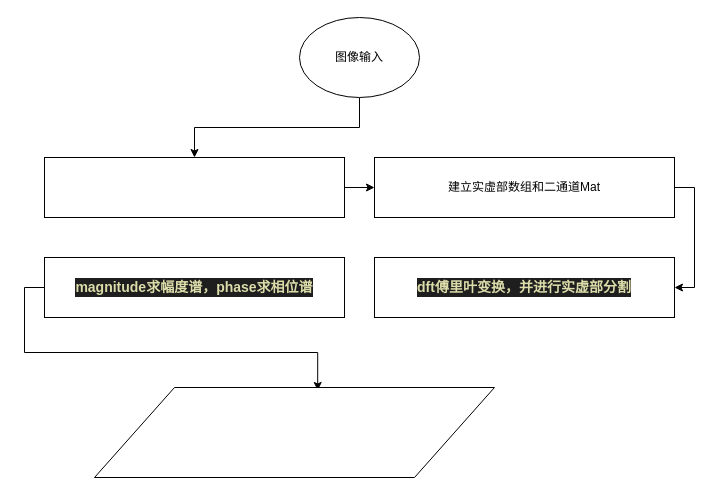
This 720x495 diagram has some shape labels left out. Each missing label, with the centre of its shape:
边缘扩展 getOptimalDFTSize， copyMakeBorder: the point at 194,187
返回 原始的幅度谱、原始相位谱: the point at 294,432
